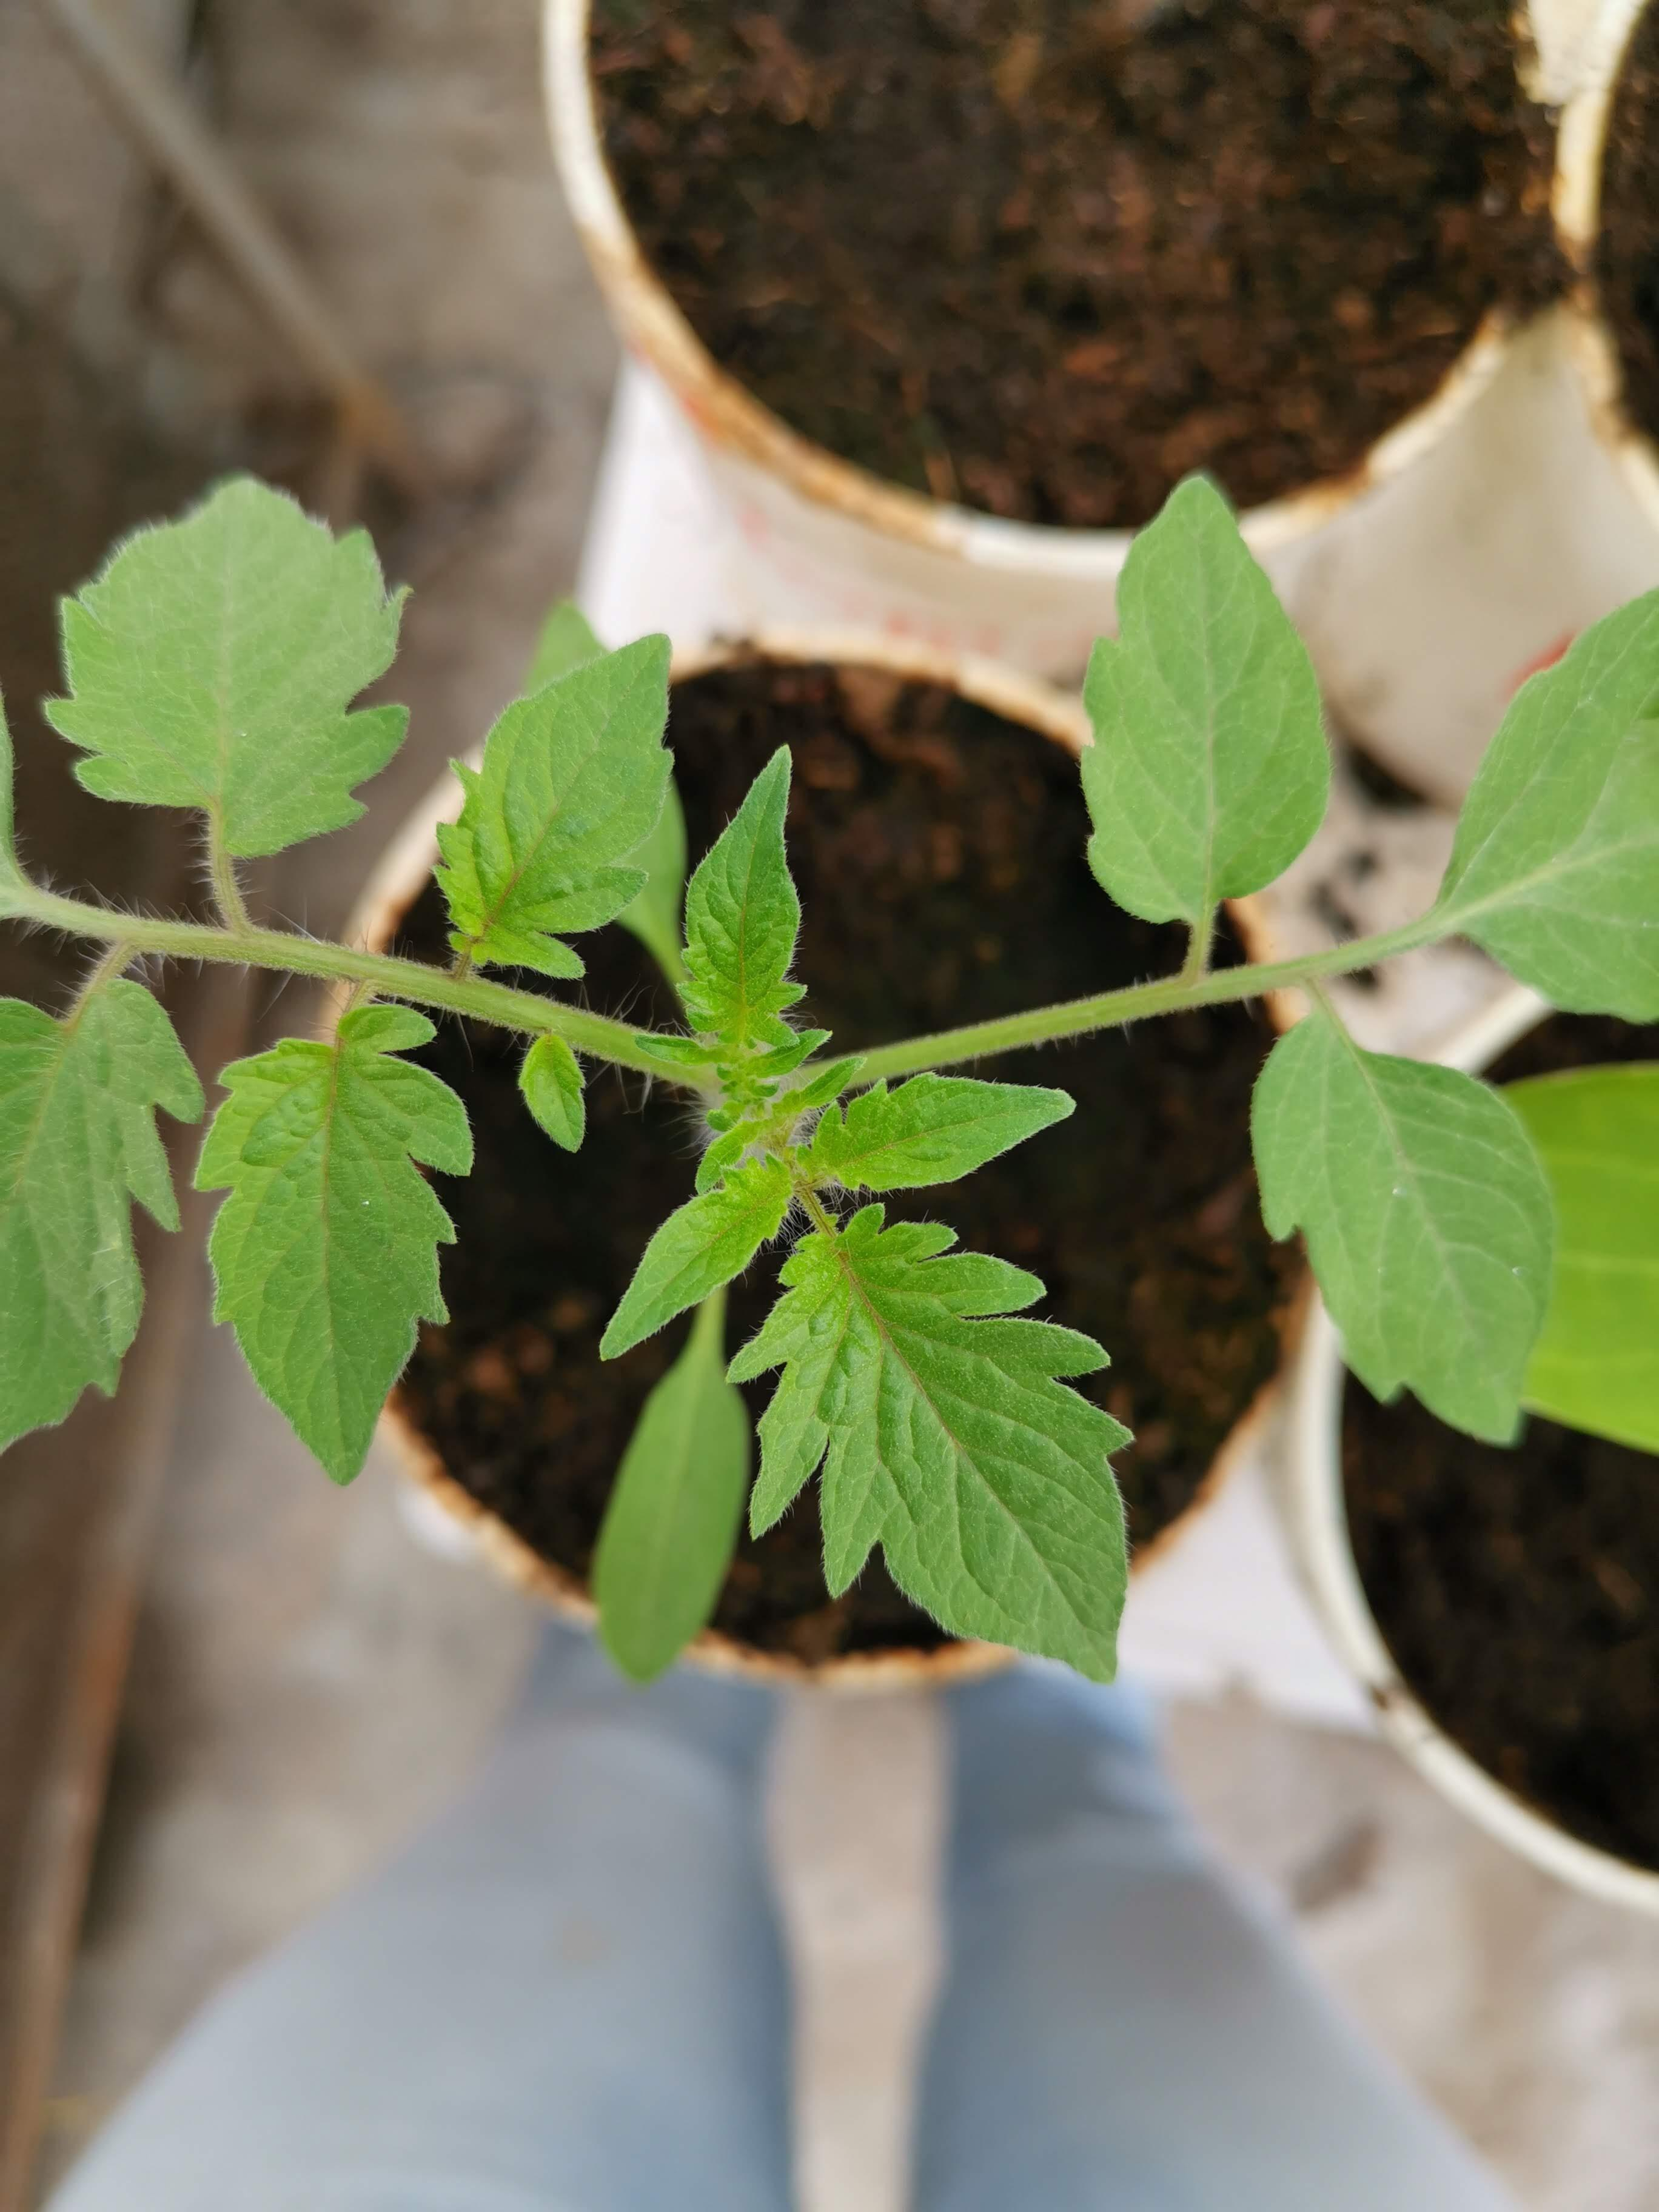Hoja: (721, 1200, 1141, 1681), (47, 479, 413, 857), (1080, 474, 1333, 925), (1420, 583, 1659, 1022), (0, 975, 204, 1458), (633, 742, 829, 1097), (601, 1150, 796, 1360), (789, 1071, 1075, 1193)
Hoja rugoso: (1249, 996, 1556, 1442), (192, 1001, 474, 1486), (427, 634, 674, 975)
Pedunculo: (3, 873, 643, 1068), (833, 927, 1415, 1085)
Pedunculo rugoso: (1415, 902, 1474, 946)
